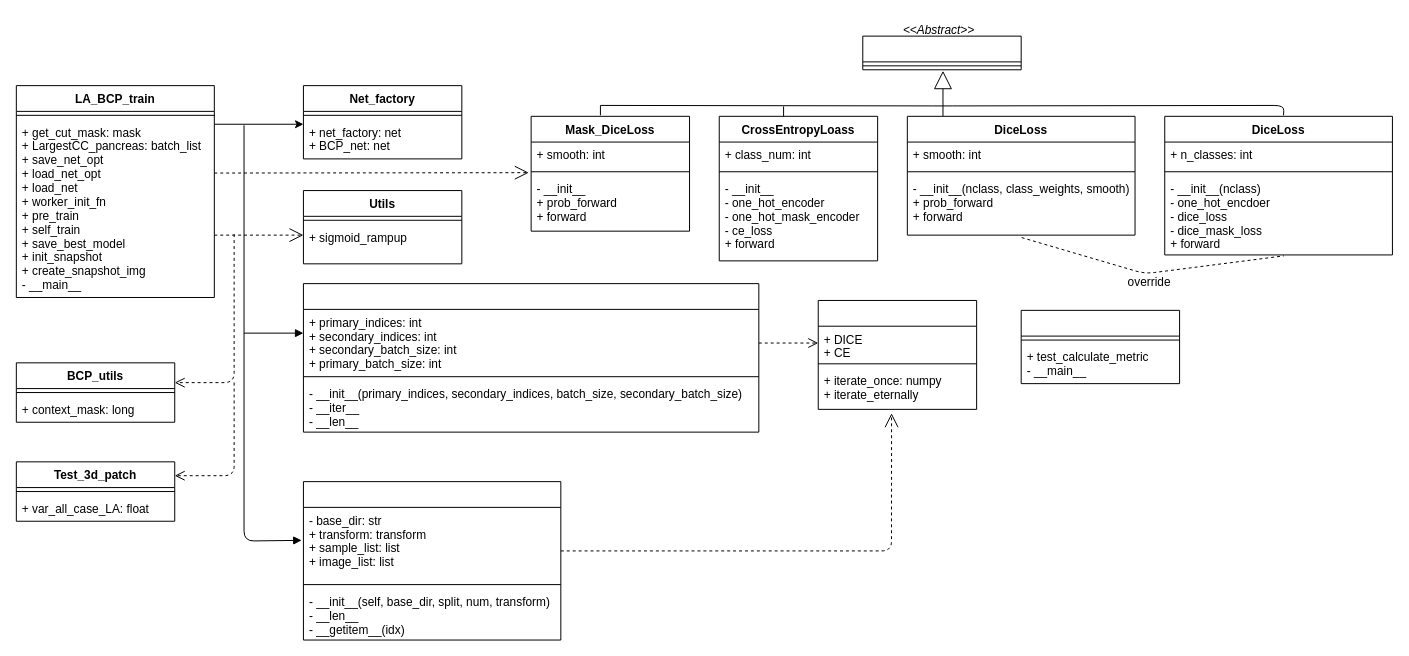
This 1409x656 diagram has some shape labels left out. The box of each missing label's shape, as (x1, y1, x2, y2) in pixels:
Dataset: (817, 299, 977, 409)
LAHeart: (302, 481, 561, 640)
nn.Module: (862, 35, 1021, 70)
Test_LA: (1020, 309, 1180, 384)
TwoStreamBatchSampler: (302, 283, 759, 432)
